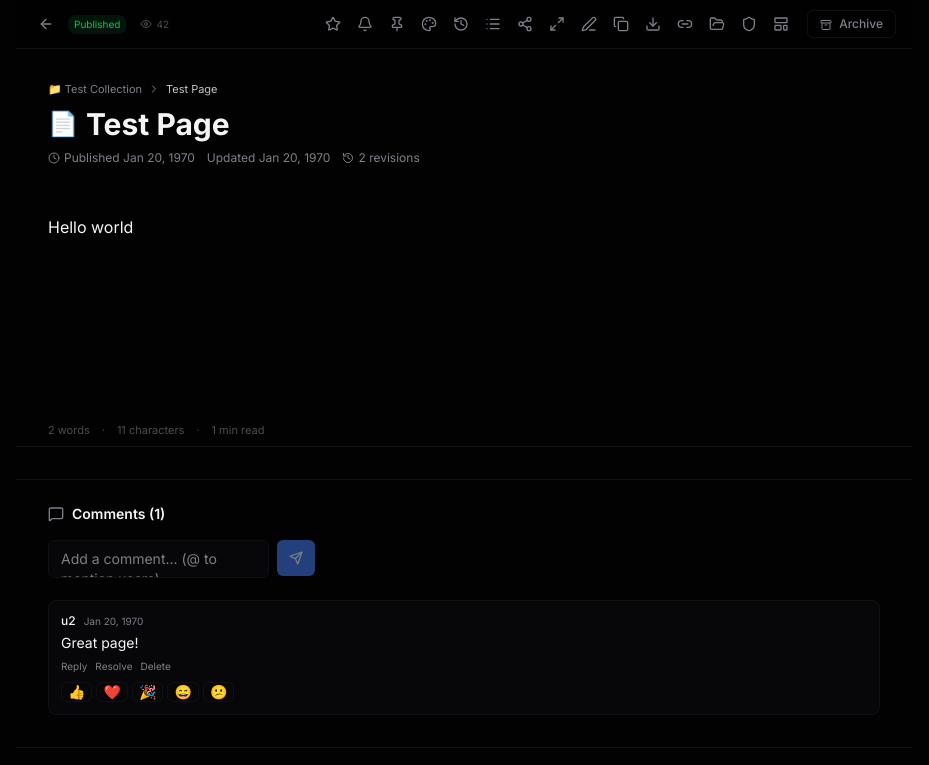
Test case: PageView › shows export dropdown when export button clicked
What coordinates should you click on to do the following:
click the button titled "Export"
I would click on:
 (653, 24)
Its box is left=639, top=10, right=667, bottom=38.
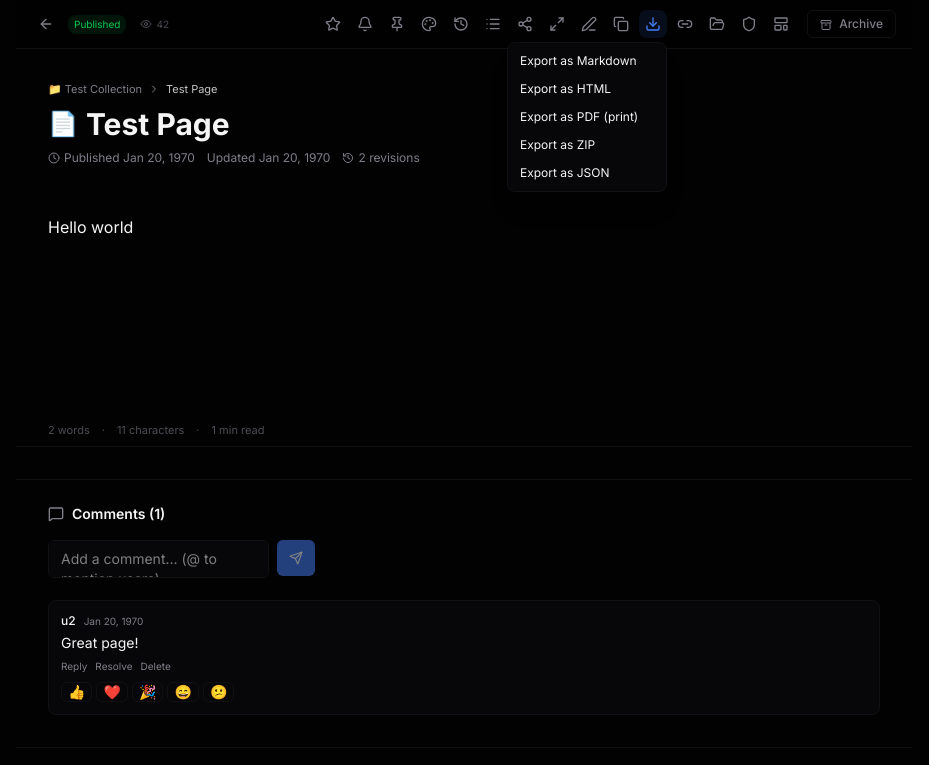
Result: the button "Export as Markdown" is shown at left=508, top=47, right=666, bottom=75
Result: the button "Export as HTML" is shown at left=508, top=75, right=666, bottom=103
Result: the button "Export as PDF (print)" is shown at left=508, top=103, right=666, bottom=131
